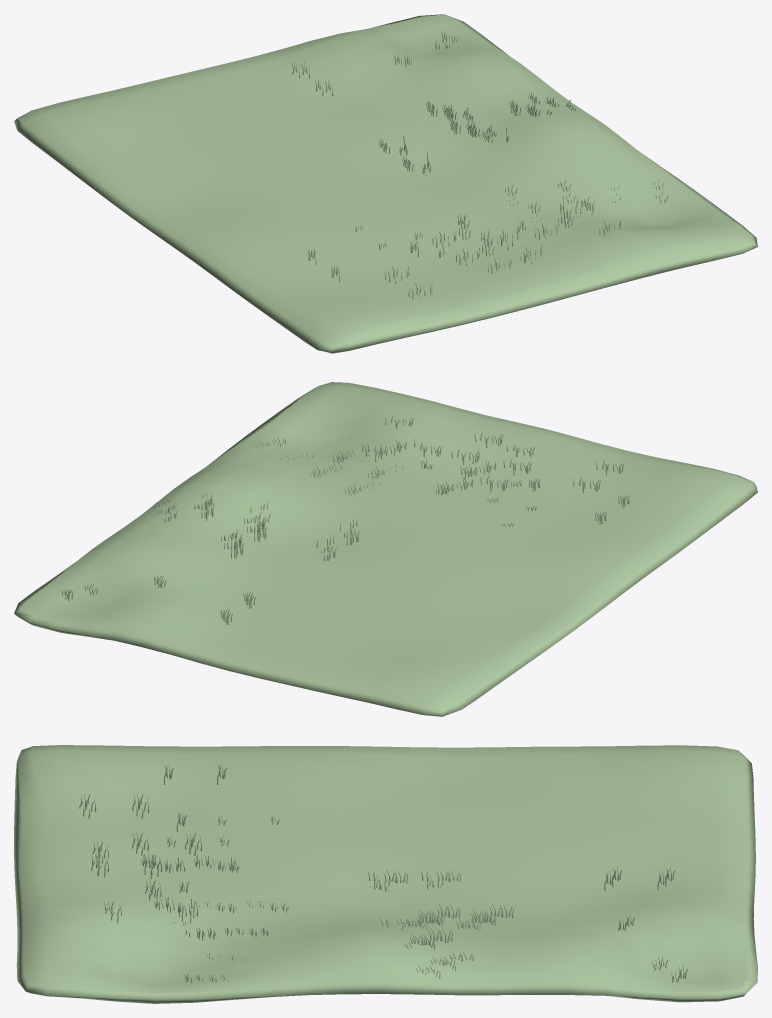
Rendered from PastoInvierno 1.fbx.
The picture shows the model from 3 angles, top to bottom: view 1: azimuth 30°, elevation 25°; view 2: azimuth 150°, elevation 25°; view 3: azimuth 270°, elevation 25°; orthographic projection. The views are drawn at different scales.
Parts seen in each view (by area): view 1: Plane.005; view 2: Plane.005; view 3: Plane.005.
Boxes of the visible parts, x1=… form: Plane.005: x1=14, y1=14, x2=757, y2=353; Plane.005: x1=14, y1=382, x2=757, y2=716; Plane.005: x1=14, y1=745, x2=757, y2=1003.
Size of the model in its own units: 3548 by 353 by 4455.
